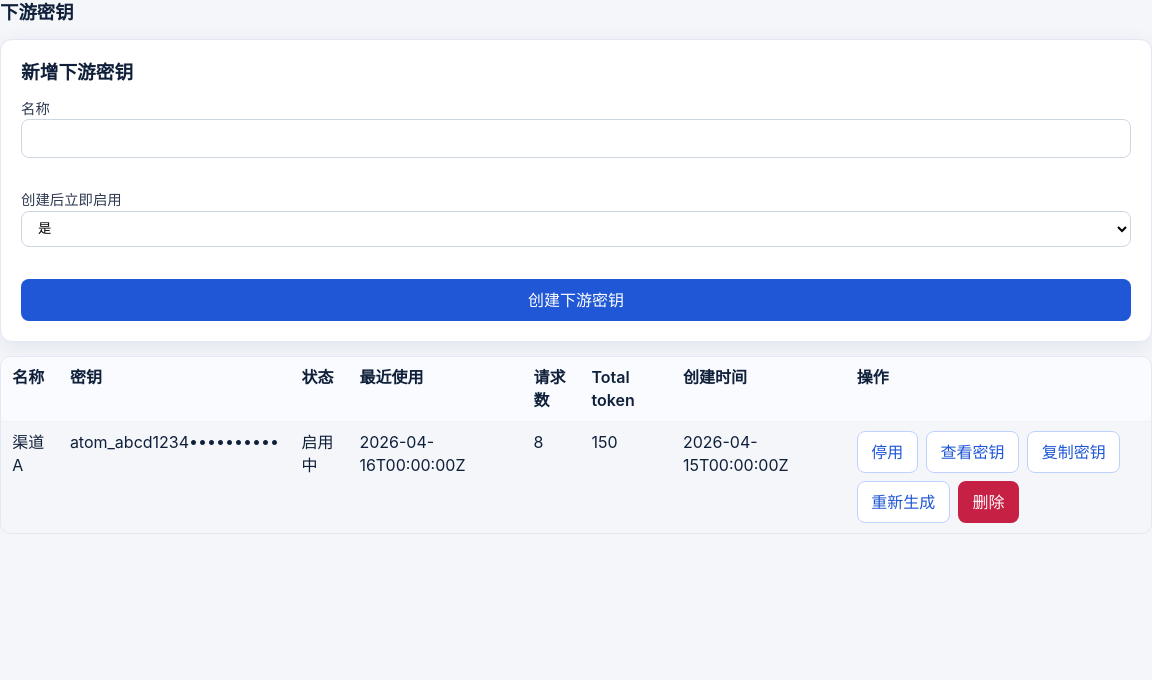
Test case: DownstreamKeysPage › creates downstream key and shows plaintext token once
The image size is (1152, 680).
Expected: the text "渠道 A" is shown, 1,421 -> 59,533
Type "渠道 B" into the field labelled "名称" at (576, 139), box 21,119 -> 1131,158
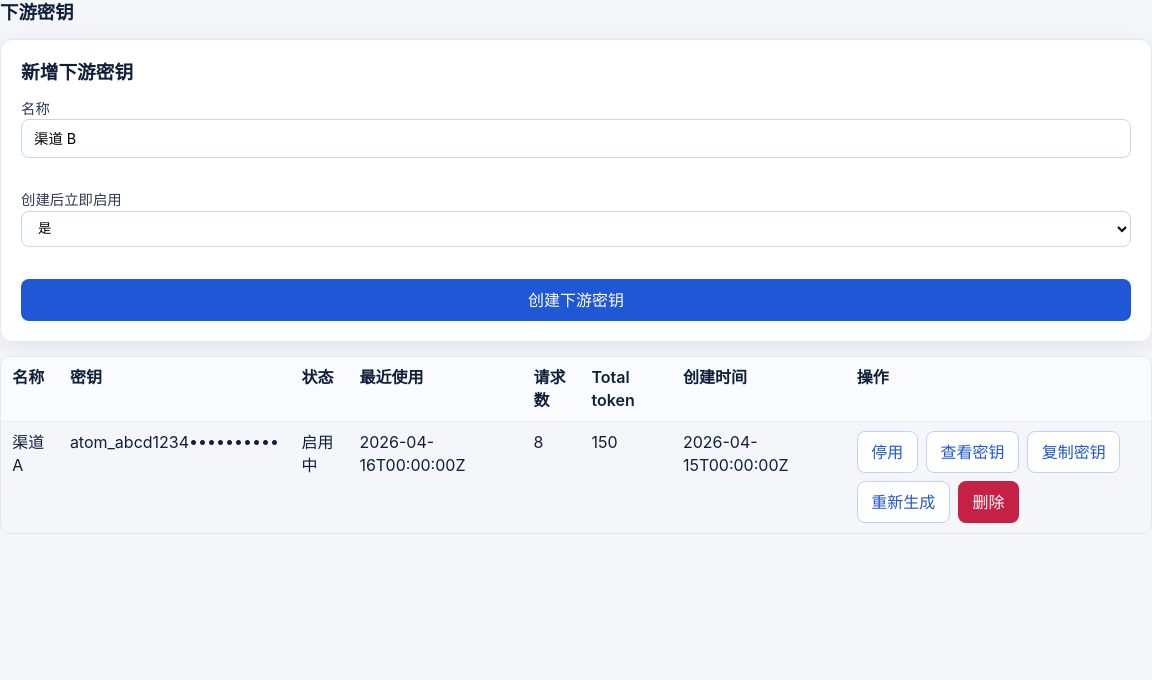
Select "否" in the dropdown labelled "创建后立即启用" at (576, 229), box 21,211 -> 1131,247
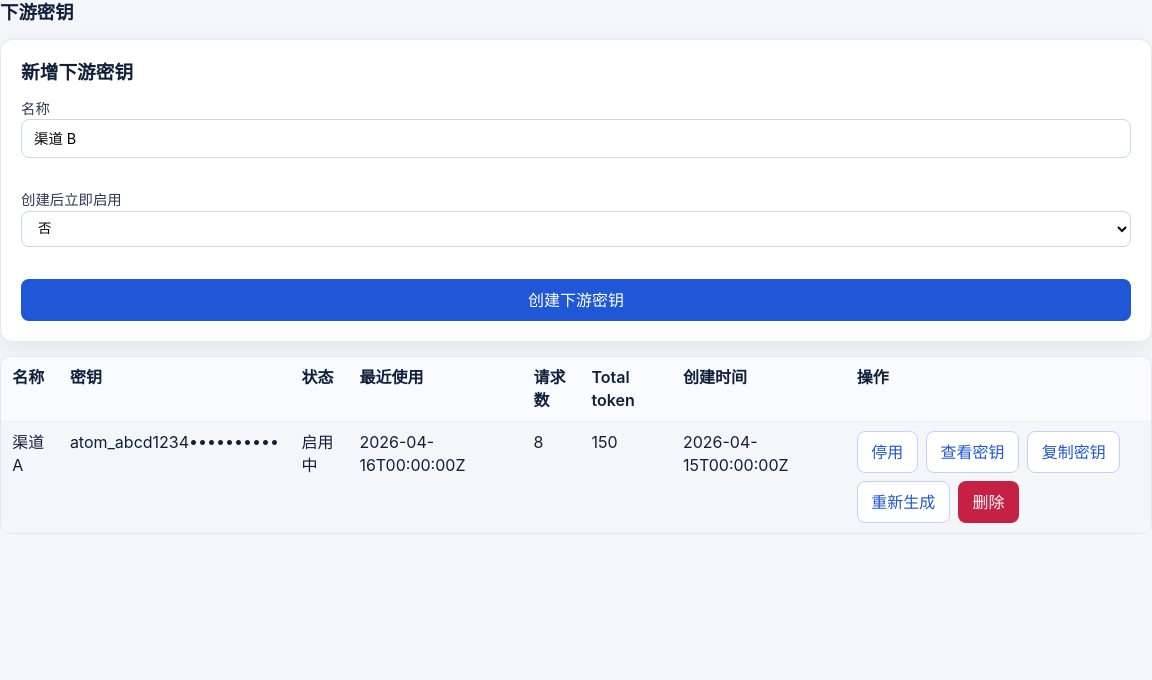
Click the button "创建下游密钥" at (576, 300), box 21,279 -> 1131,321
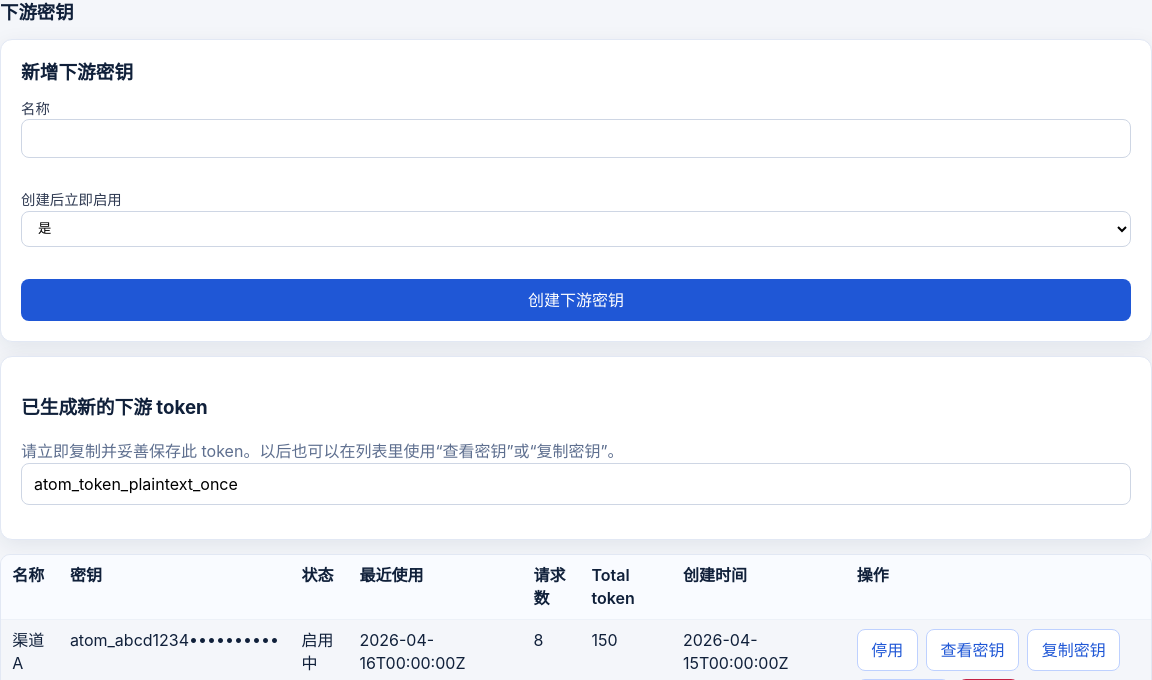
Expected: the text "请立即复制并妥善保存此 token。以后也可以在列表里使用“查看密钥”或“复制密钥”。" is shown, 21,441 -> 624,461
Expected: the field showing "atom_token_plaintext_once" is shown, 21,463 -> 1131,505
